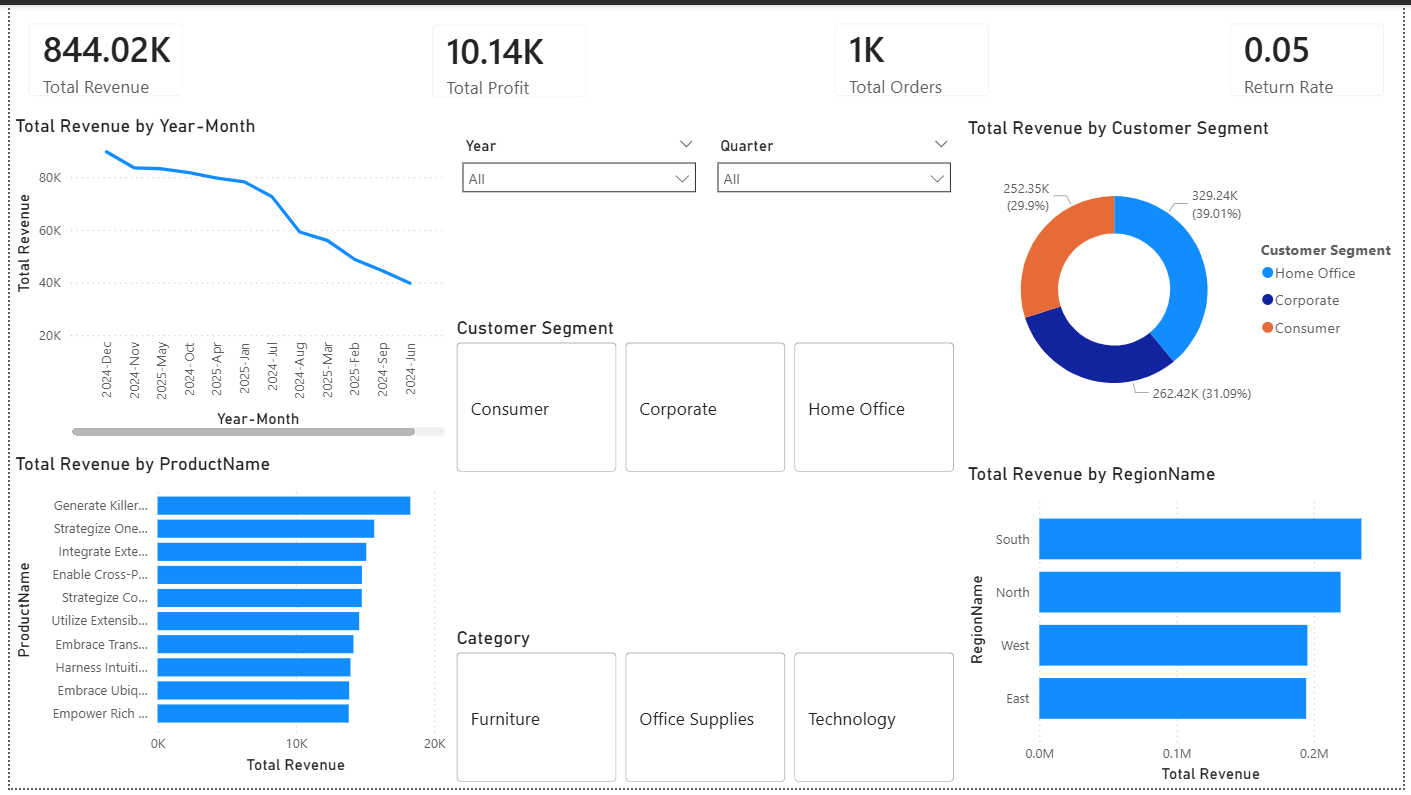

The page's visual inventory and layout, read from the dashboard file:
{"tool":"powerbi","page":{"name":"Executive Overview","canvas":[1280,720],"ordinal":1},"visuals":[{"type":"cardVisual","fields":{"Data":["Table.Total Profit"]},"box":[370.9,1.2,176.7,101.2],"z":0},{"type":"cardVisual","fields":{"Data":["Table.Total Orders"]},"box":[740.7,0,176.7,101.2],"z":1000},{"type":"cardVisual","fields":{"Data":["Table.Return Rate"]},"box":[1103.5,0,176.7,101.2],"z":2000},{"type":"cardVisual","fields":{"Data":["Table.total sale"]},"box":[0,0,176.7,101.2],"z":3000},{"type":"lineChart","fields":{"Y":["Table.Total Revenue"],"Category":["Date_Dim.Year-Month"]},"box":[0,100.9,404.9,300.3],"z":4000},{"type":"donutChart","fields":{"Category":["Sales_Fact.Customer Segment"],"Y":["Table.Total Revenue"]},"box":[874.9,102.4,405.1,299.7],"z":5000},{"type":"barChart","fields":{"Category":["Product_Dim.ProductName"],"Y":["Table.Total Revenue"]},"box":[0,411,405,300],"z":6000},{"type":"clusteredBarChart","fields":{"Category":["Region_Dim.RegionName"],"Y":["Table.Total Revenue"]},"box":[874.9,420.1,405.1,299.7],"z":7000},{"type":"slicer","fields":{"Values":["Date_Dim.Year"]},"box":[405.1,116,234.9,63.2],"z":8000},{"type":"slicer","fields":{"Values":["Date_Dim.Quarter"]},"box":[640,116,234.9,63.2],"z":9000},{"type":"advancedSlicerVisual","fields":{"Values":["Sales_Fact.Customer Segment"]},"box":[405.1,286.1,469.8,149.1],"z":10000},{"type":"advancedSlicerVisual","fields":{"Values":["Product_Dim.Category"]},"box":[405.1,570.7,469.8,149.1],"z":11000}]}

Visuals, with their boxes in screenshot pixels (x1, y1, x2, y2), scaled from the page's 1280x720 canvas onto the 1411x795 screenshot:
cardVisual - Table.Total Profit: <region>409, 1, 604, 113</region>
cardVisual - Table.Total Orders: <region>817, 0, 1011, 112</region>
cardVisual - Table.Return Rate: <region>1216, 0, 1410, 112</region>
cardVisual - Table.total sale: <region>0, 0, 195, 112</region>
lineChart - Table.Total Revenue x Date_Dim.Year-Month: <region>0, 111, 446, 443</region>
donutChart - Sales_Fact.Customer Segment x Table.Total Revenue: <region>964, 113, 1410, 444</region>
barChart - Product_Dim.ProductName x Table.Total Revenue: <region>0, 454, 446, 785</region>
clusteredBarChart - Region_Dim.RegionName x Table.Total Revenue: <region>964, 464, 1410, 794</region>
slicer - Date_Dim.Year: <region>447, 128, 706, 198</region>
slicer - Date_Dim.Quarter: <region>706, 128, 964, 198</region>
advancedSlicerVisual - Sales_Fact.Customer Segment: <region>447, 316, 964, 481</region>
advancedSlicerVisual - Product_Dim.Category: <region>447, 630, 964, 794</region>
